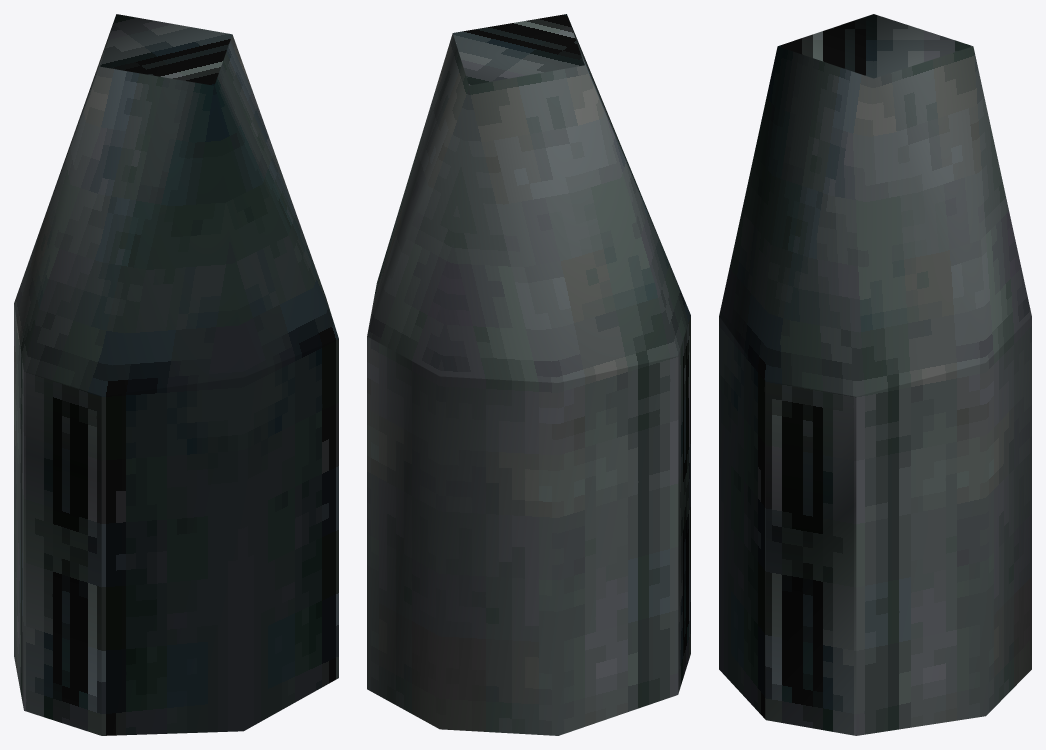
Rendered from wp_muzzle_dx2_l1.fbx.
3 views of the same model, side by side, from view 1: azimuth 30°, elevation 25°; view 2: azimuth 150°, elevation 25°; view 3: azimuth 270°, elevation 25° (orthographic).
Visible parts, largest first — view 1: mesh_node; view 2: mesh_node; view 3: mesh_node.
Boxes of the visible parts, x1,y1,x2,y2 form: mesh_node: (14, 14, 338, 735); mesh_node: (367, 14, 690, 735); mesh_node: (719, 14, 1031, 735).
Bounding box in the file's own units: 0.0324 × 0.0641 × 0.0291.
1 material, 1 textured.
